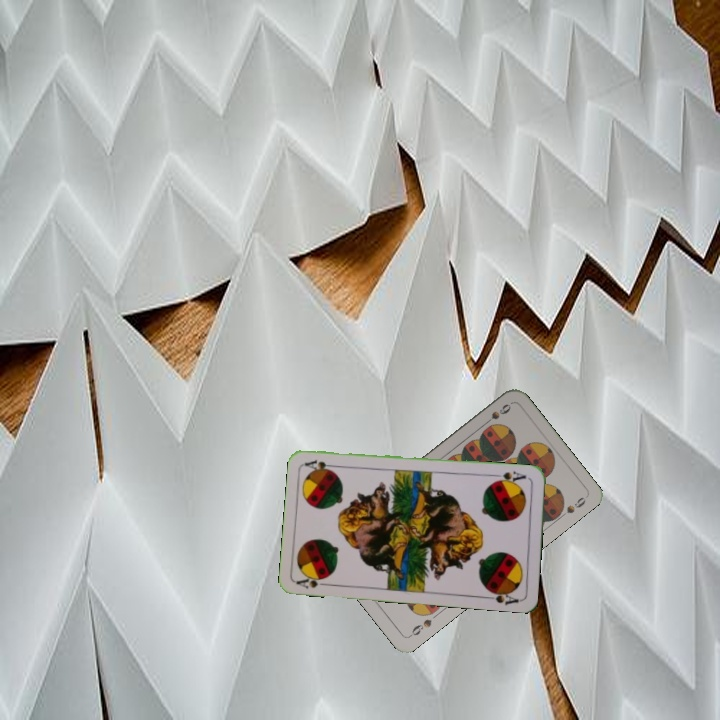S9: (479, 400, 514, 429), (405, 615, 434, 640)
SA: (293, 571, 333, 591), (490, 467, 529, 487)
